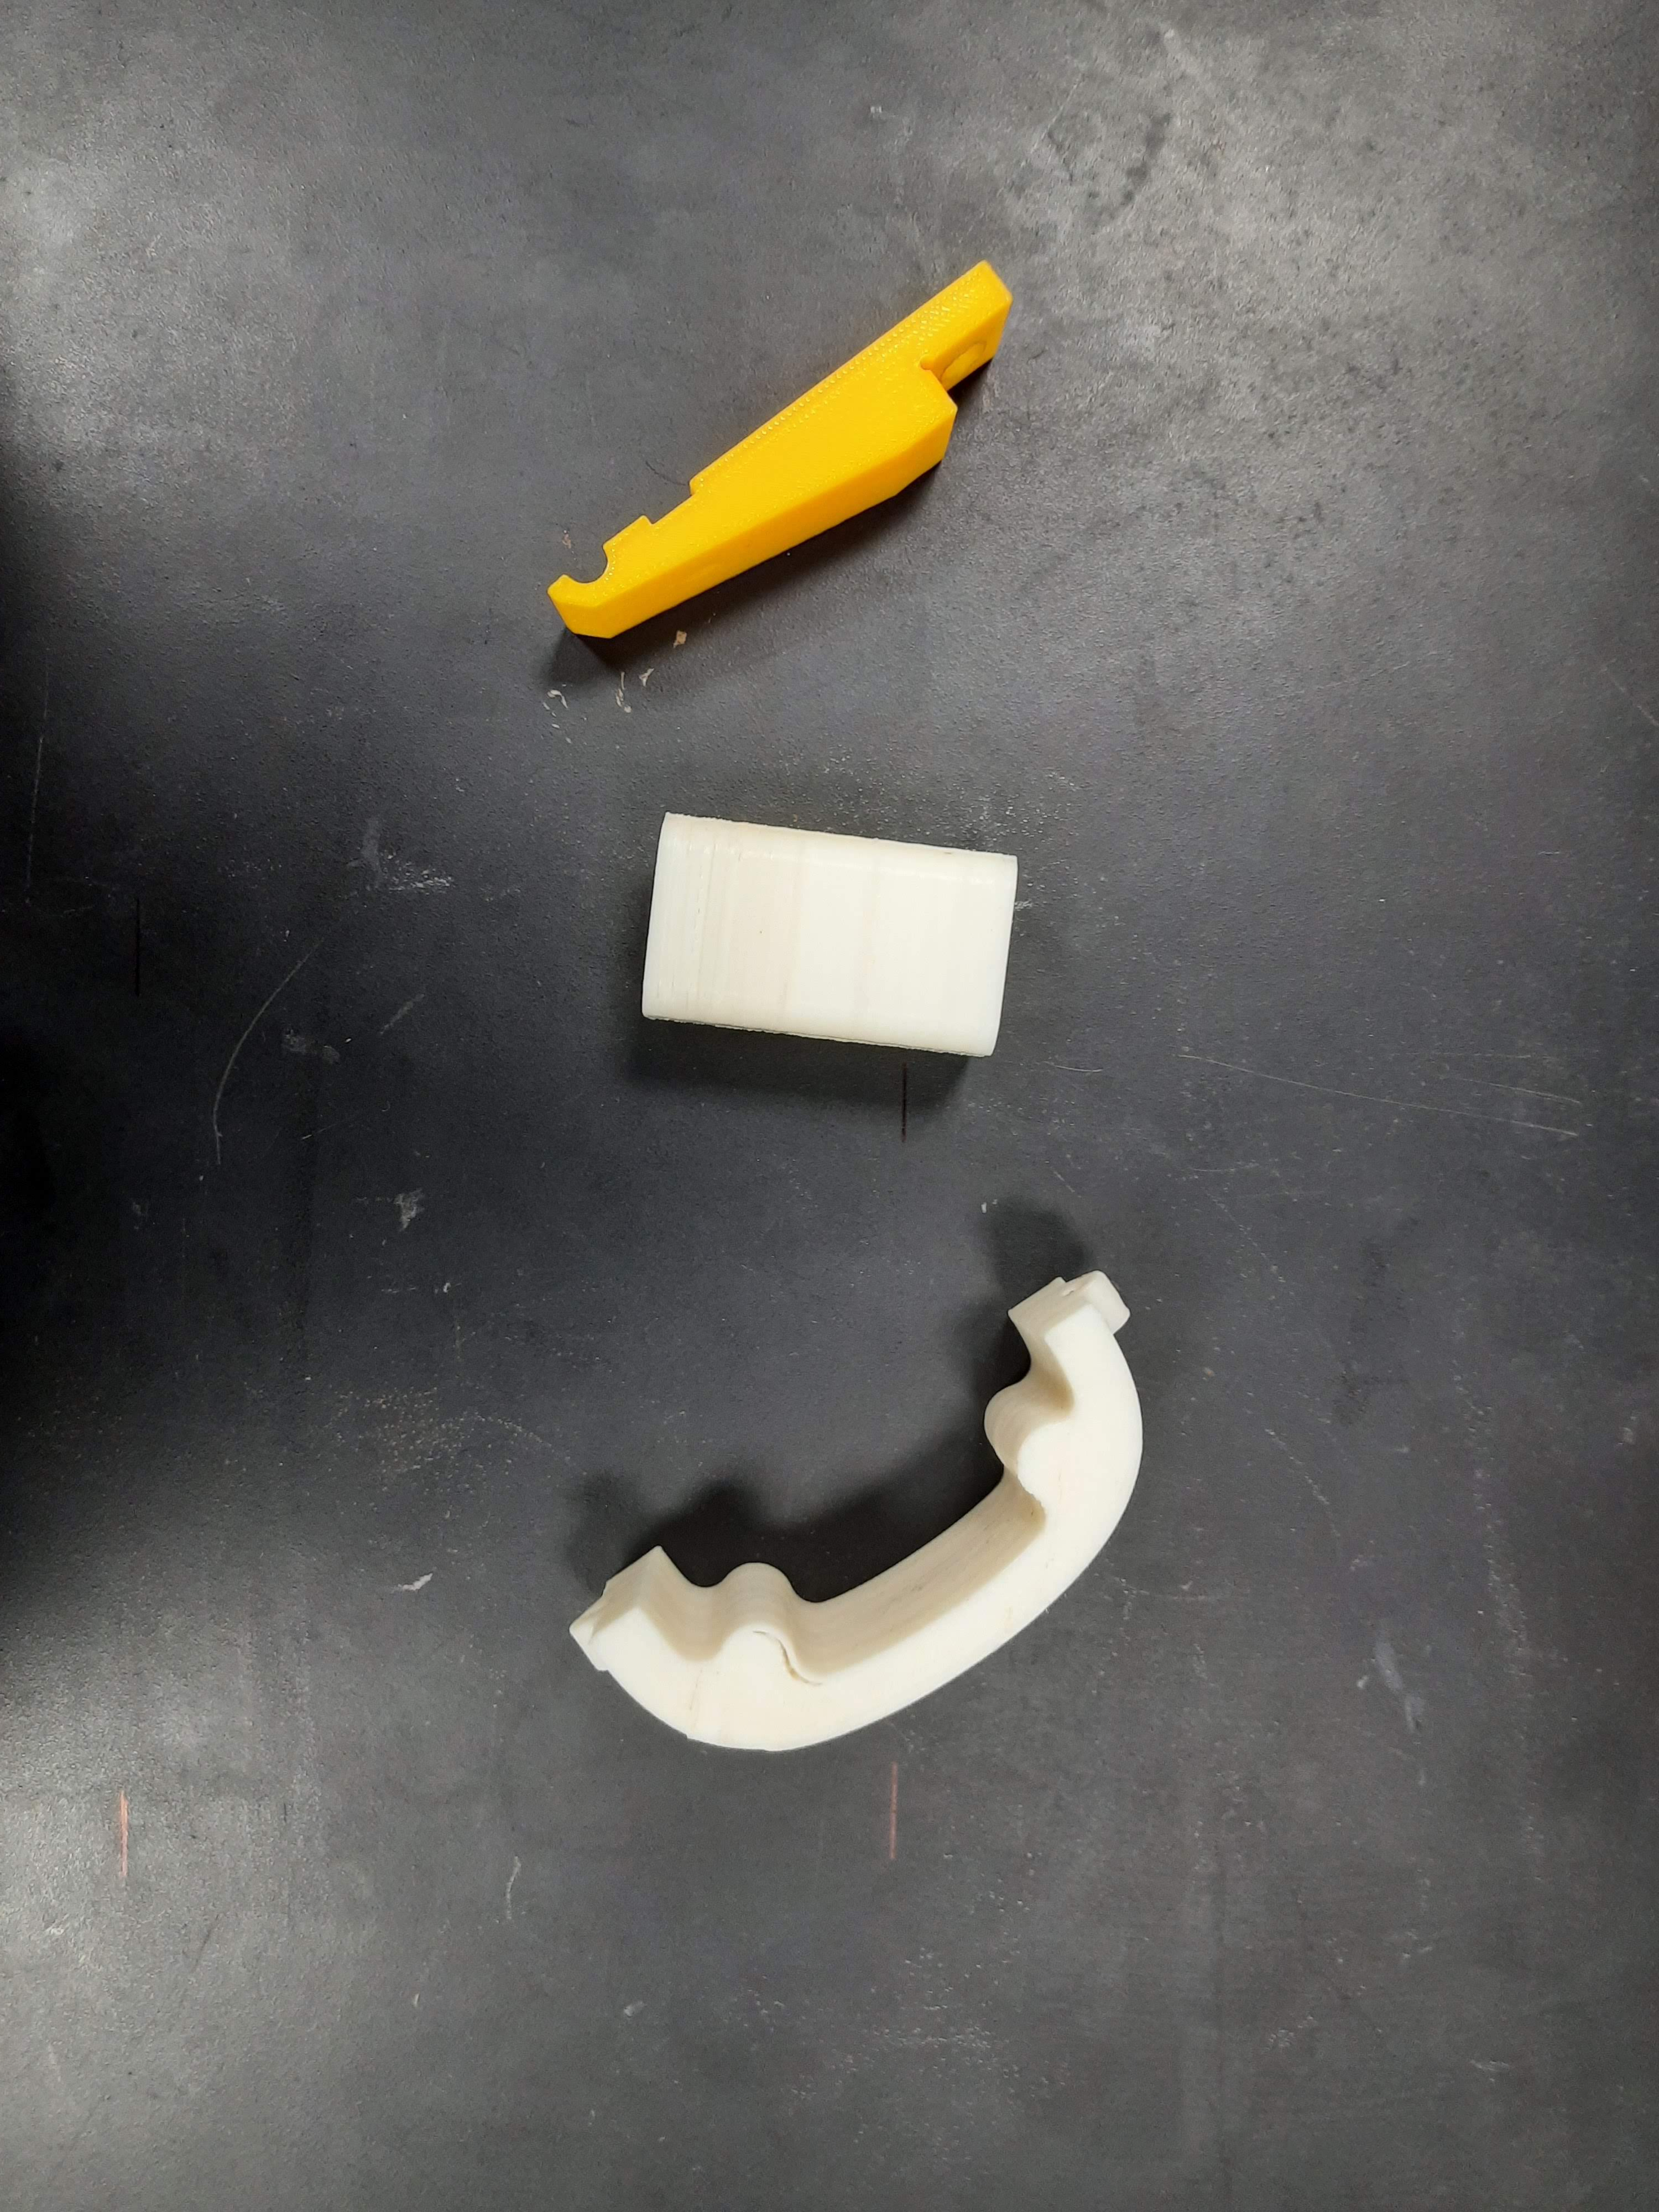ARC: (549, 1252, 1248, 1843)
CUBE: (641, 813, 1021, 1052)
YELLOW: (545, 242, 1075, 698)
